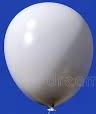Balloon: (4, 2, 93, 105)
